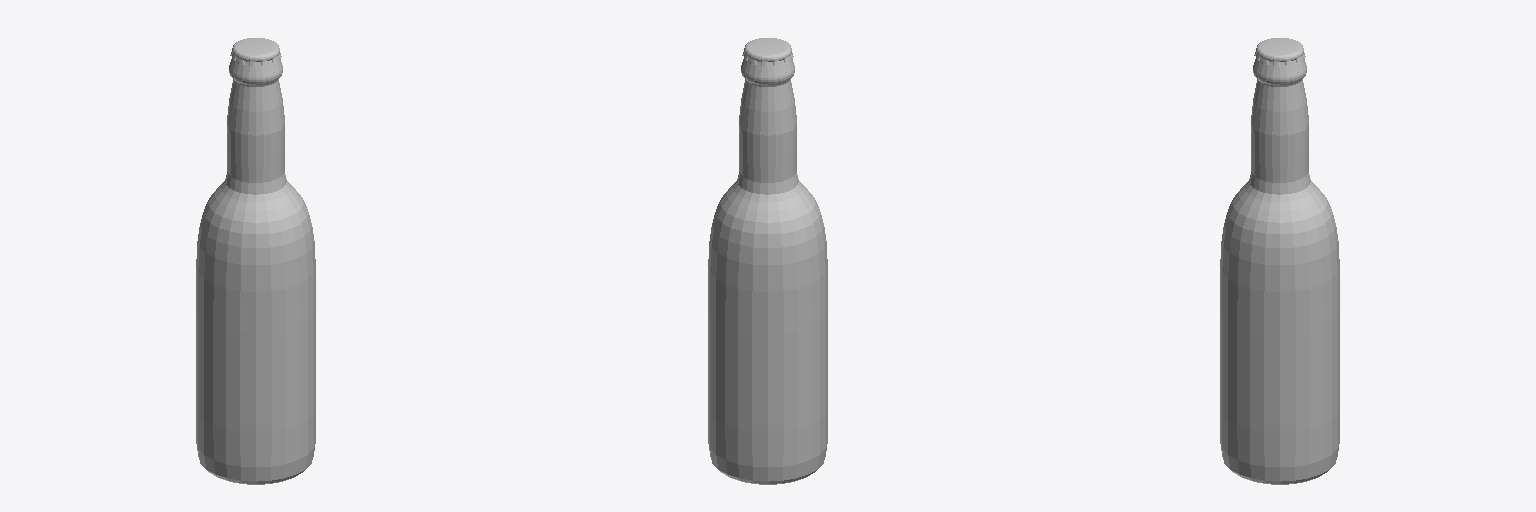
The model's file is Corona (2).obj.
The picture shows the model from 3 angles: view 1: azimuth 30°, elevation 25°; view 2: azimuth 150°, elevation 25°; view 3: azimuth 270°, elevation 25°; orthographic projection.
Parts seen in each view (by area): view 1: Botella; view 2: Botella; view 3: Botella.
Boxes of the visible parts, x1=… form: Botella: x1=196, y1=38, x2=315, y2=484; Botella: x1=708, y1=38, x2=827, y2=484; Botella: x1=1220, y1=38, x2=1339, y2=484.
Bounding box in the file's own units: 1.26 × 4.82 × 1.26.